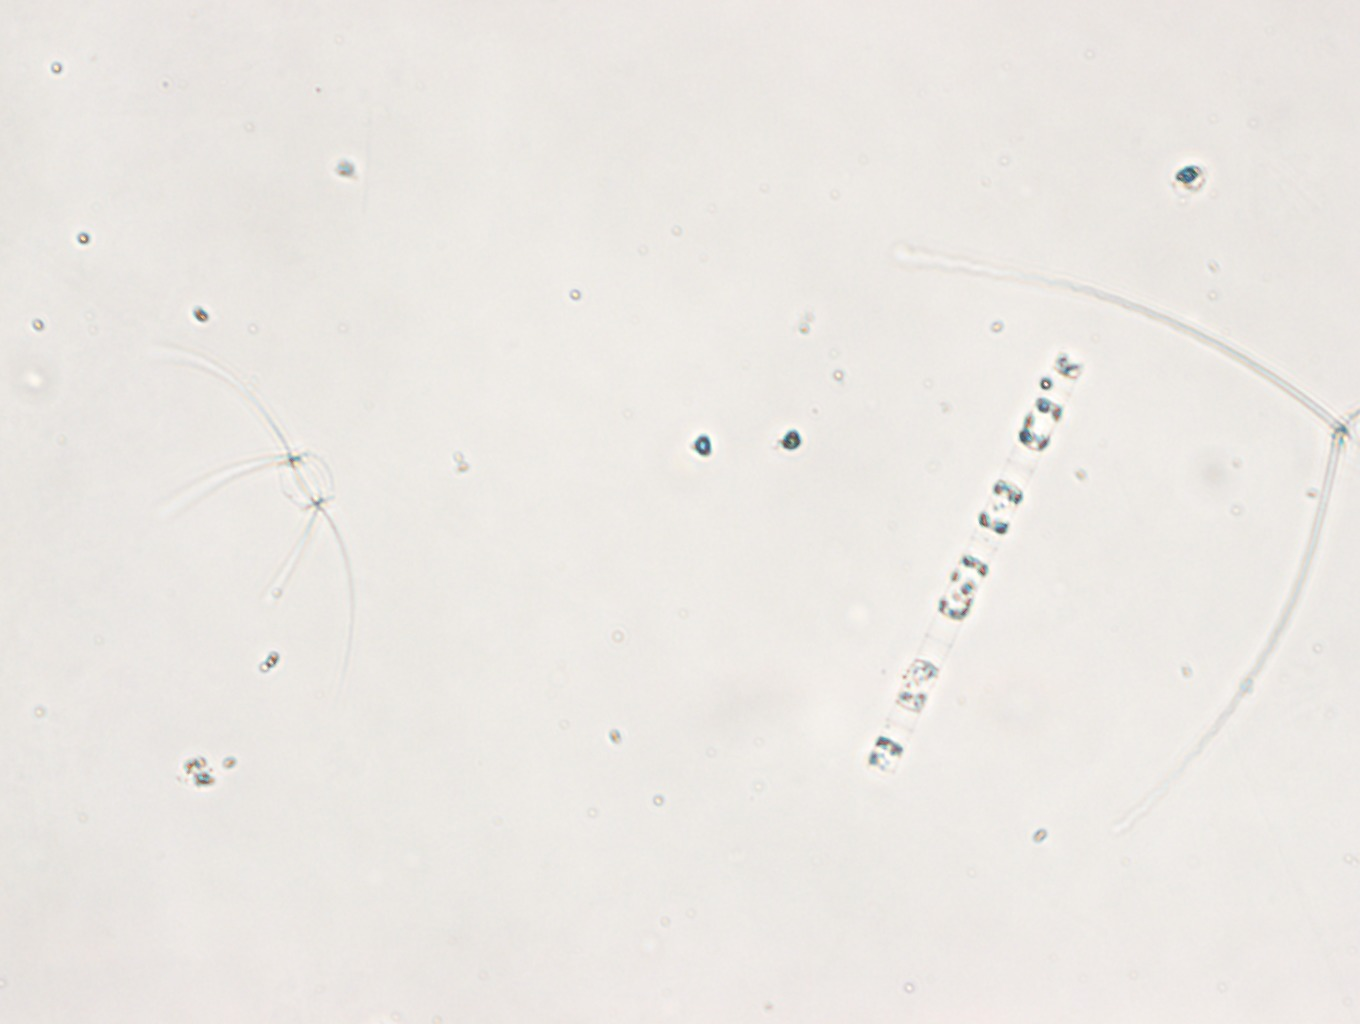chaetoceros: (145, 338, 357, 685)
skeletonema: (864, 350, 1087, 784)
